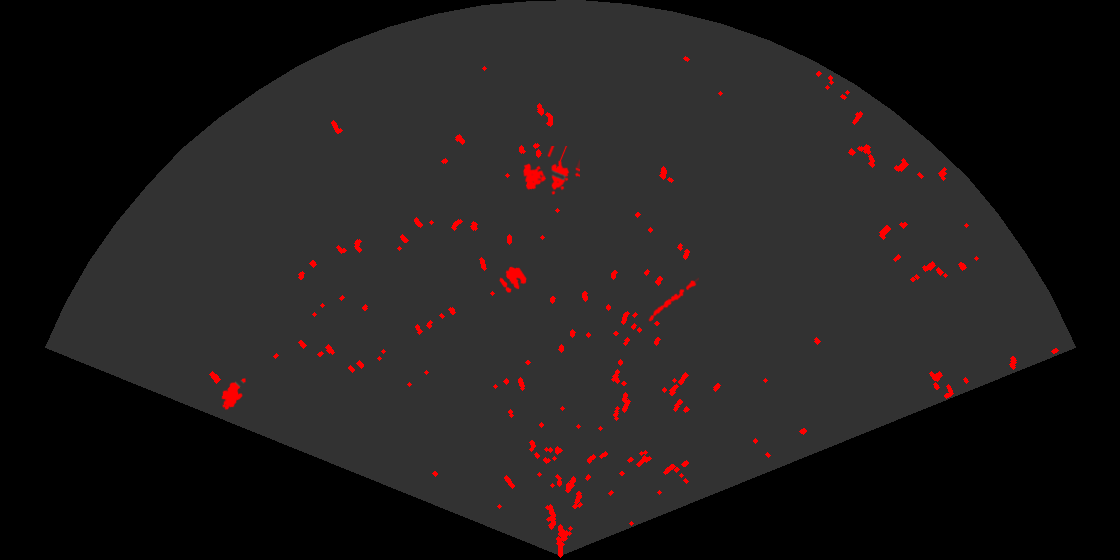AUV: (220, 376, 248, 412)
ball: (498, 265, 528, 294)
cage: (521, 146, 580, 197)
chain: (647, 276, 699, 323)
